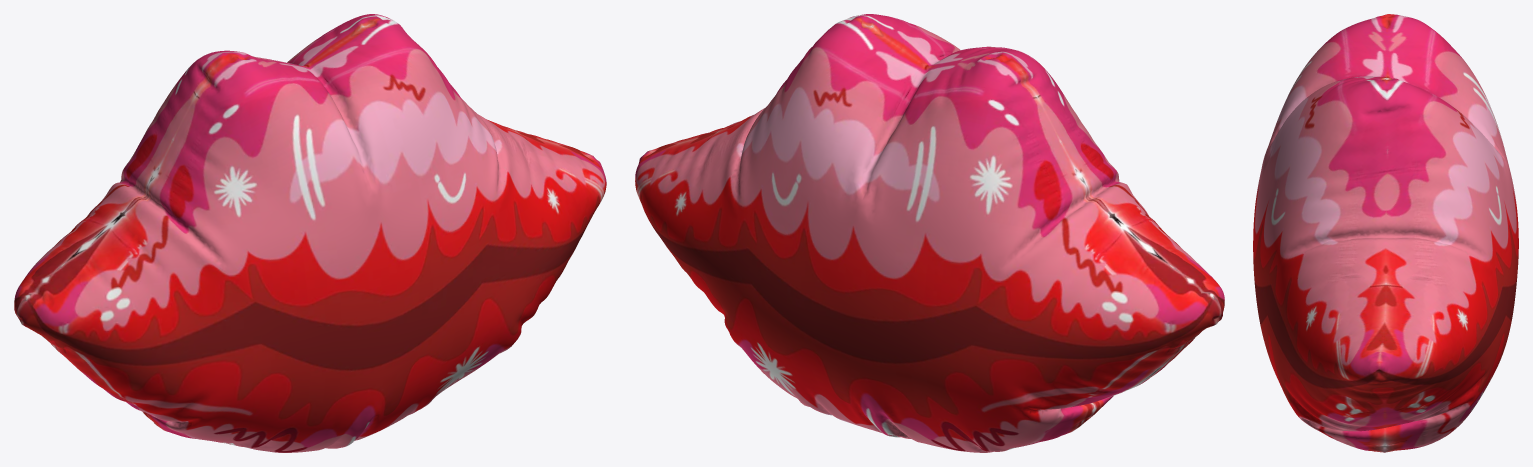
Rendered from Lips Foil Balloon.glb.
3 renders of one model, left to right at view 1: azimuth 30°, elevation 25°; view 2: azimuth 150°, elevation 25°; view 3: azimuth 270°, elevation 25°, orthographic. The views are drawn at different scales.
Visible parts, largest first — view 1: Foil_Balloon_lips1; view 2: Foil_Balloon_lips1; view 3: Foil_Balloon_lips1.
Part boxes in pixels (box(x1,y1,x2,y2)): Foil_Balloon_lips1: box(14, 14, 606, 452); Foil_Balloon_lips1: box(635, 14, 1224, 452); Foil_Balloon_lips1: box(1253, 14, 1518, 452).
Bounding box in the file's own units: 0.8503 × 0.5575 × 0.3569.
1 material, 1 textured.
